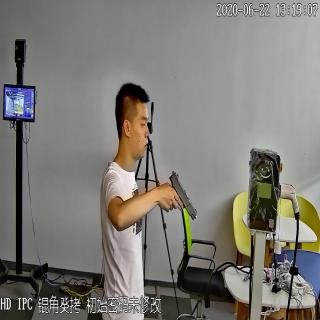gun: (164, 167, 198, 221)
